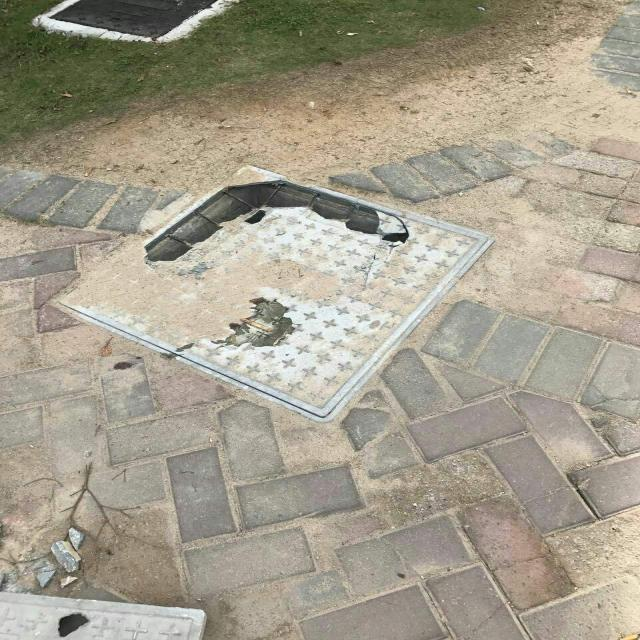Faulty: (45, 162, 492, 424)
